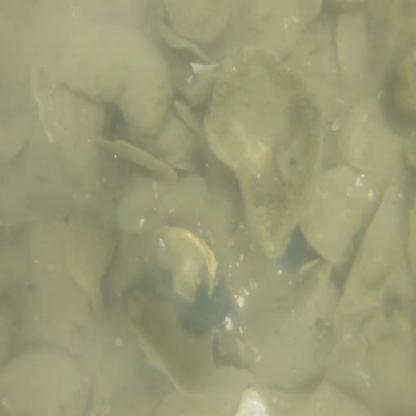Oyster-Closed: (197, 39, 327, 265), (54, 25, 171, 136), (125, 281, 216, 402), (297, 163, 367, 264), (0, 350, 90, 416), (155, 224, 217, 305), (64, 207, 118, 298), (89, 134, 177, 181), (165, 0, 228, 44)
